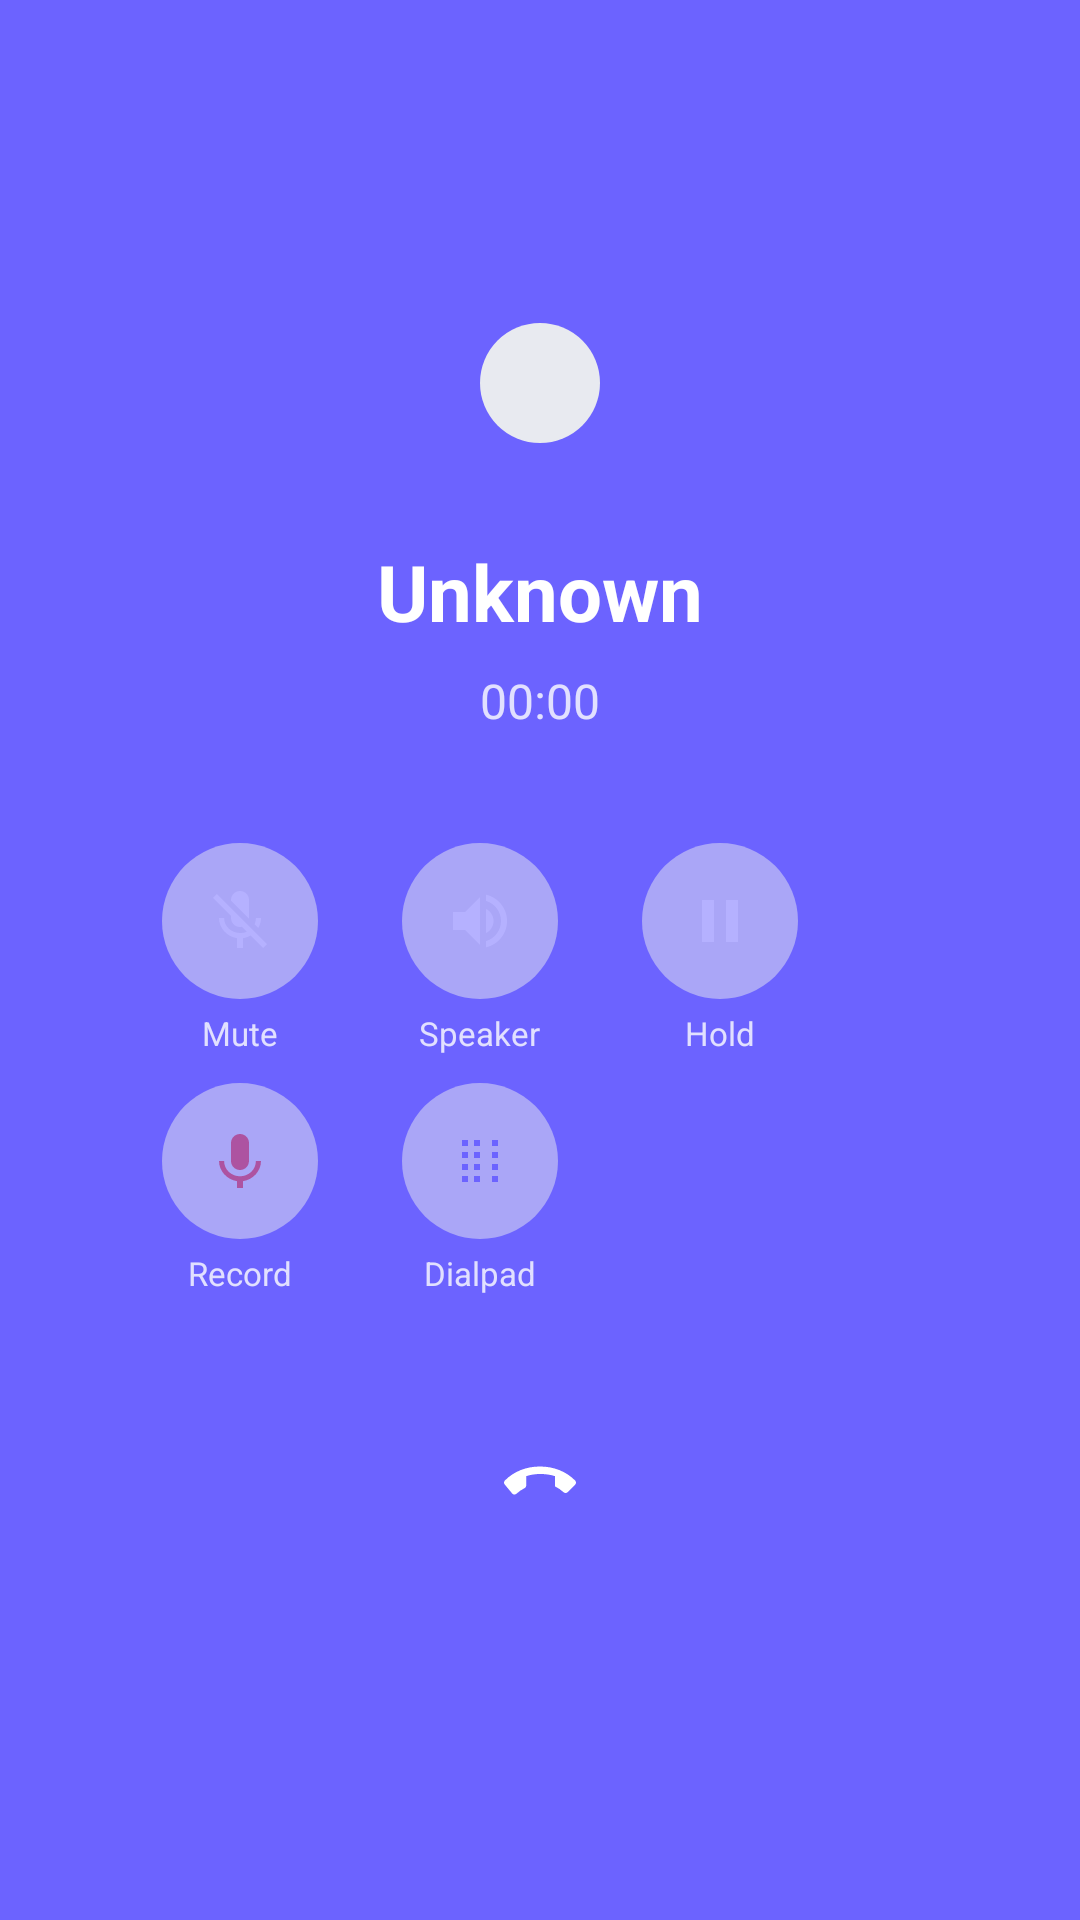

Screen size 1080px×1920px. Icon name, then its center in pixels as (x,y):
call end: (540,1480)
